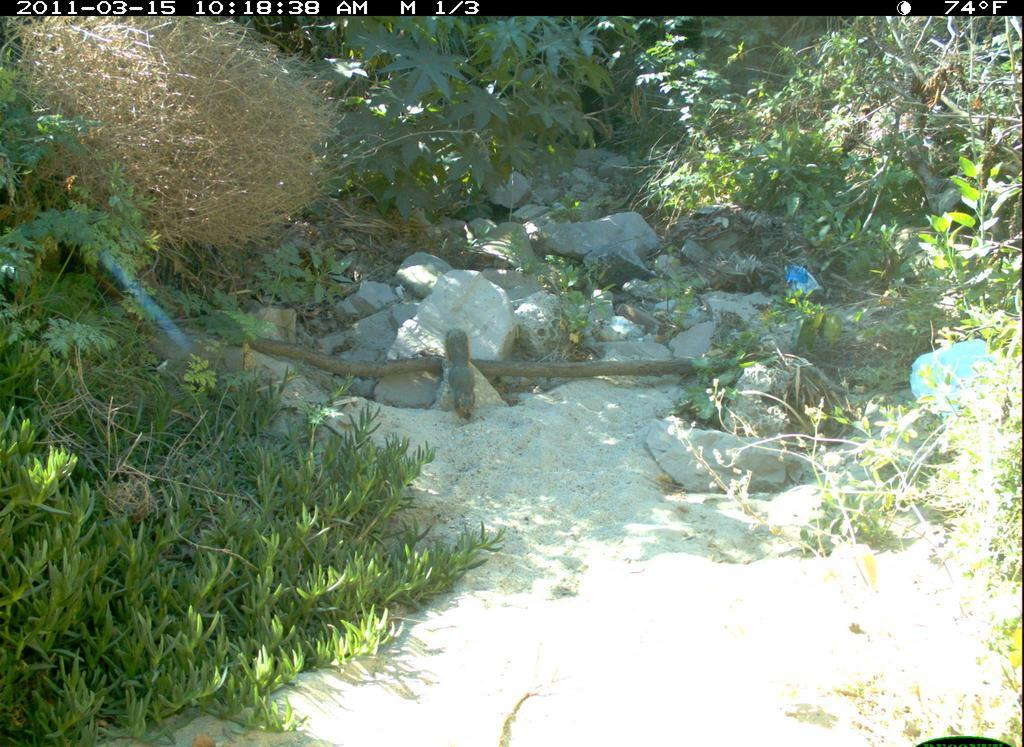squirrel: (438, 318, 495, 423)
